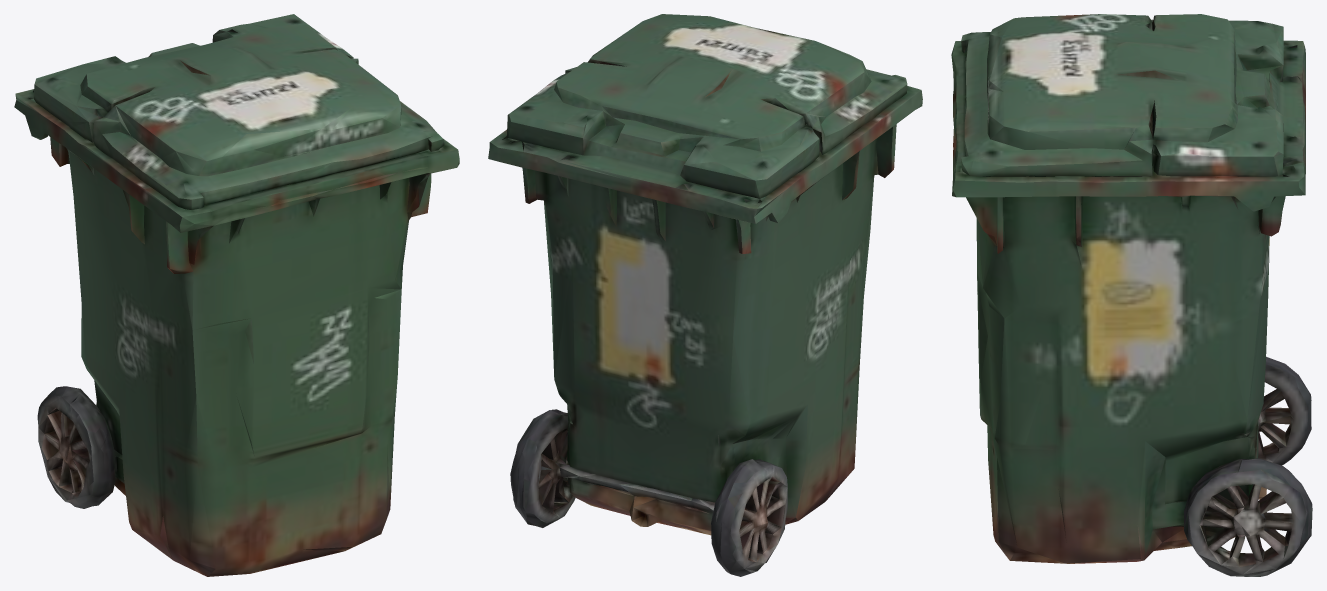
The model's file is street_city_trash.glb.
3 views of the same model, side by side, from view 1: azimuth 30°, elevation 25°; view 2: azimuth 150°, elevation 25°; view 3: azimuth 270°, elevation 25° (orthographic). The views are drawn at different scales.
Parts seen in each view (by area): view 1: turn; view 2: turn; view 3: turn.
Part boxes in pixels (left/top/right/bottom): turn: left=14, top=14, right=459, bottom=576; turn: left=488, top=14, right=922, bottom=576; turn: left=951, top=14, right=1312, bottom=576.
Bounding box in the file's own units: 0.7153 × 1.1 × 0.7684.
Materials: 1 (1 with a texture image).
